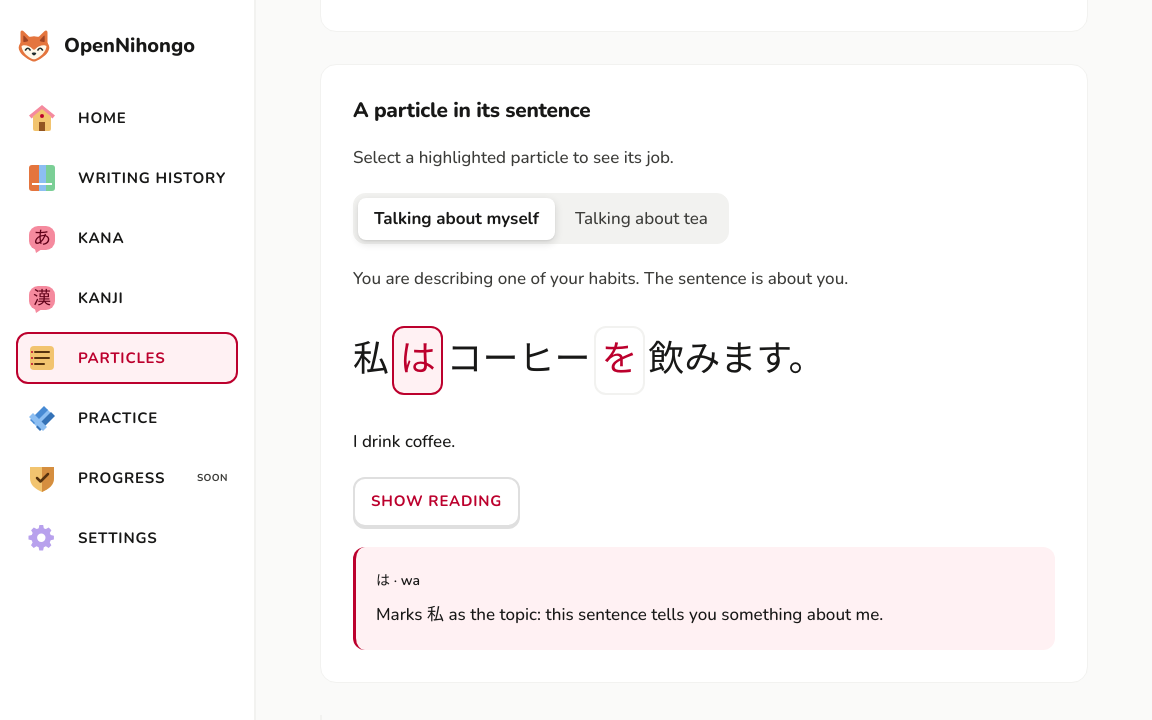
Test case: explores particle roles in sentences and resets the explanation when changing examples
The width and height of the screenshot is (1152, 720).
(page scrolled)
Expected: the text "Marks 私 as the topic" is shown, 376,603 -> 883,626
Click the button named "Explore を" at [619, 361], box 594,326 -> 645,395
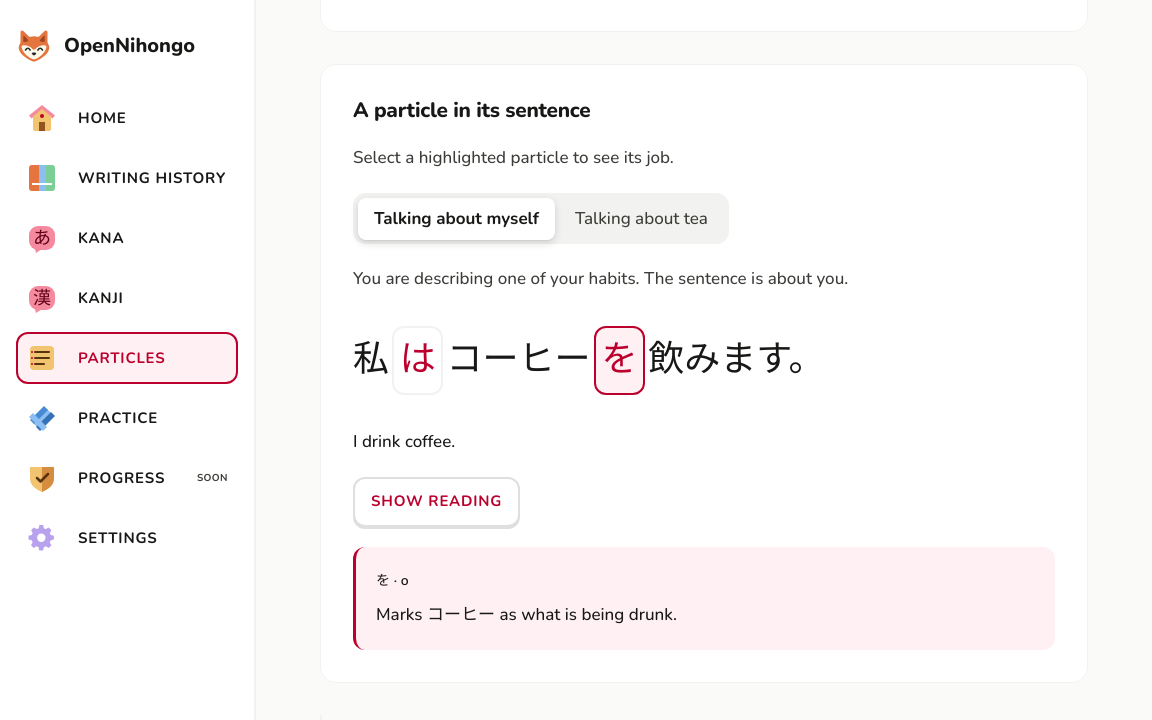
Result: the text "Marks コーヒー as what is being drunk." is shown at 376,603 -> 677,626
Click the radio button labelled "Talking about tea" at [641, 219], box 559,198 -> 724,240
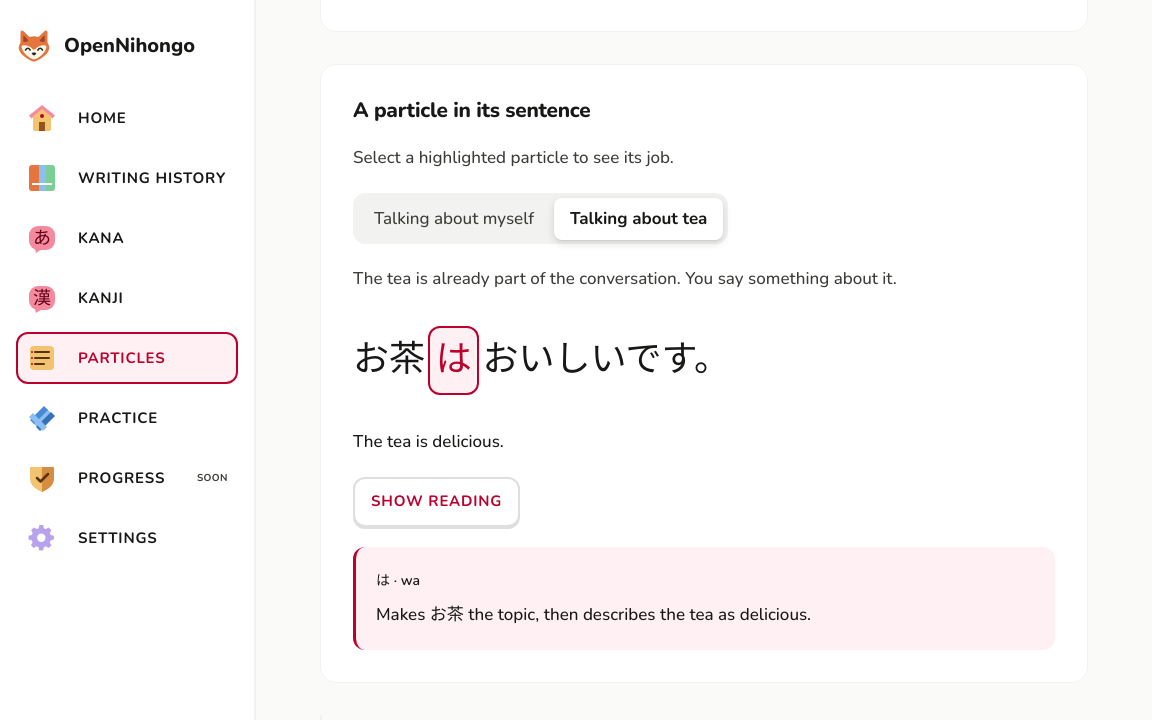
Result: the element named "Japanese sentence" reads "お茶 は おいしいです。" at 353,326 -> 730,395
Result: the text "Makes お茶 the topic, then describes the tea as delicious." is shown at 376,603 -> 811,626
Click the button "Show reading" at [437, 502], box 353,477 -> 520,527
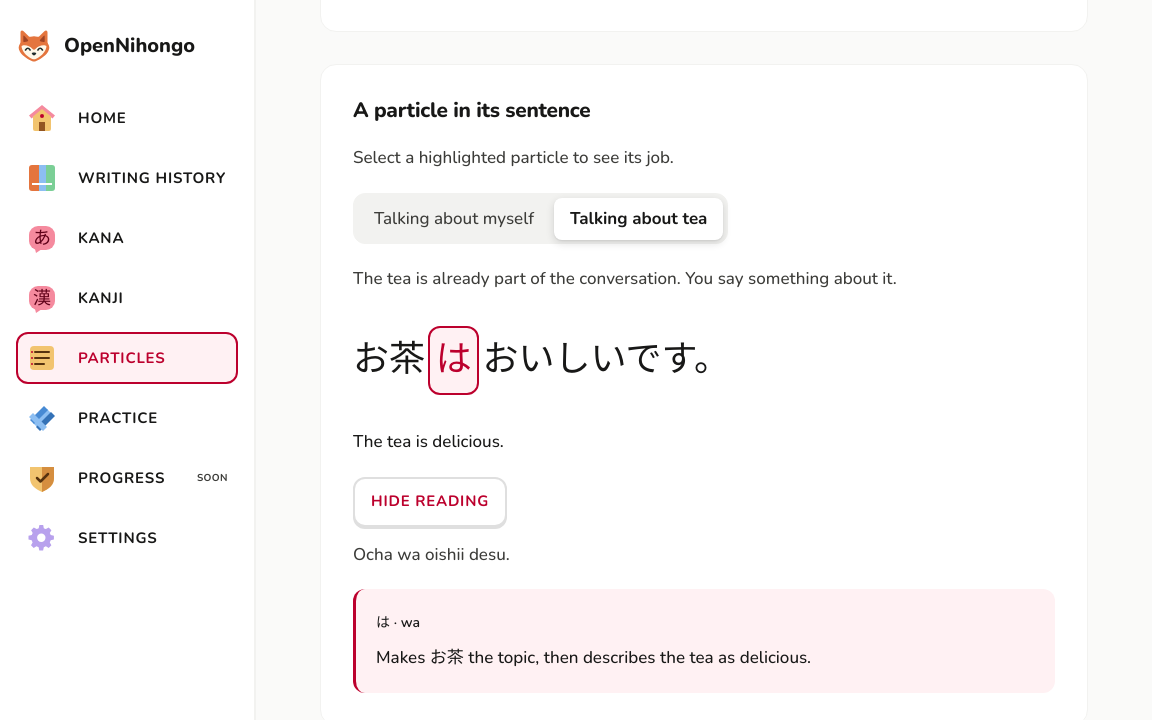
Result: the text "Ocha wa oishii desu." is shown at 353,542 -> 510,566
Click the button "Hide reading" at [430, 502], box 353,477 -> 507,527
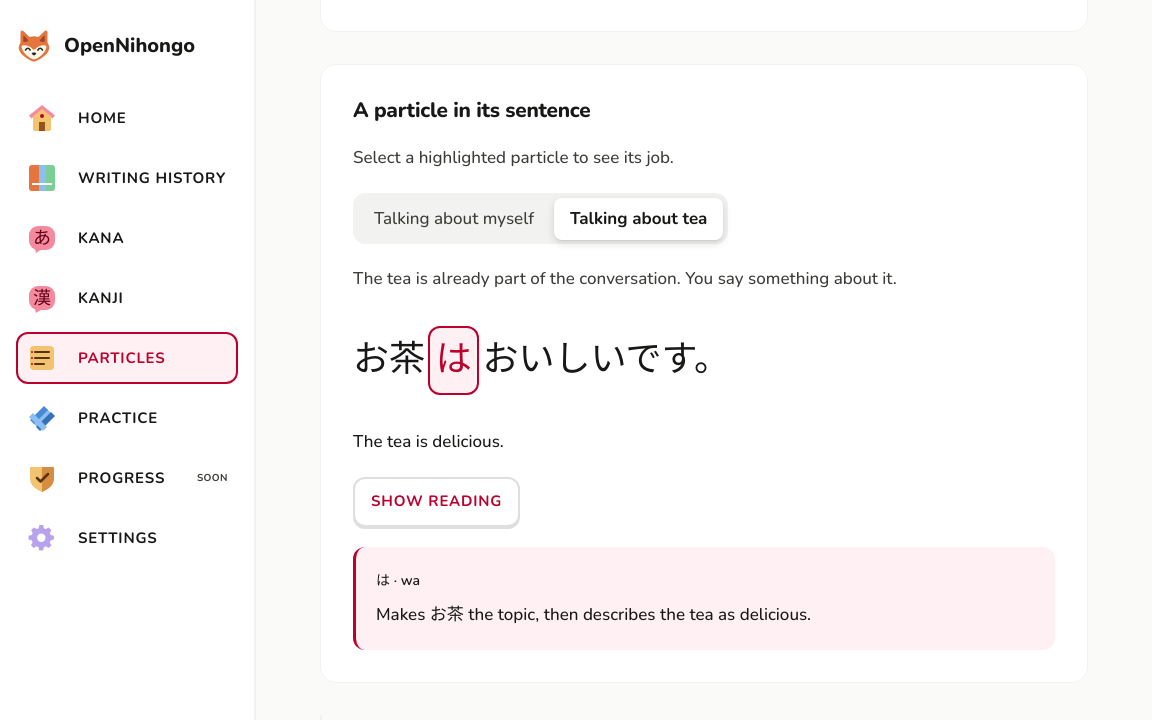
Result: the text "Ocha wa oishii desu." is gone
